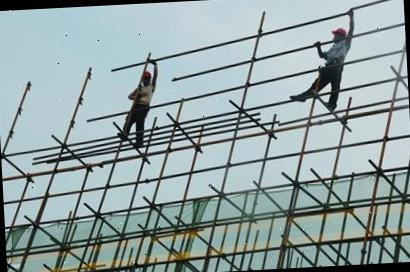helmet: (332, 26, 348, 38), (140, 70, 152, 78)
